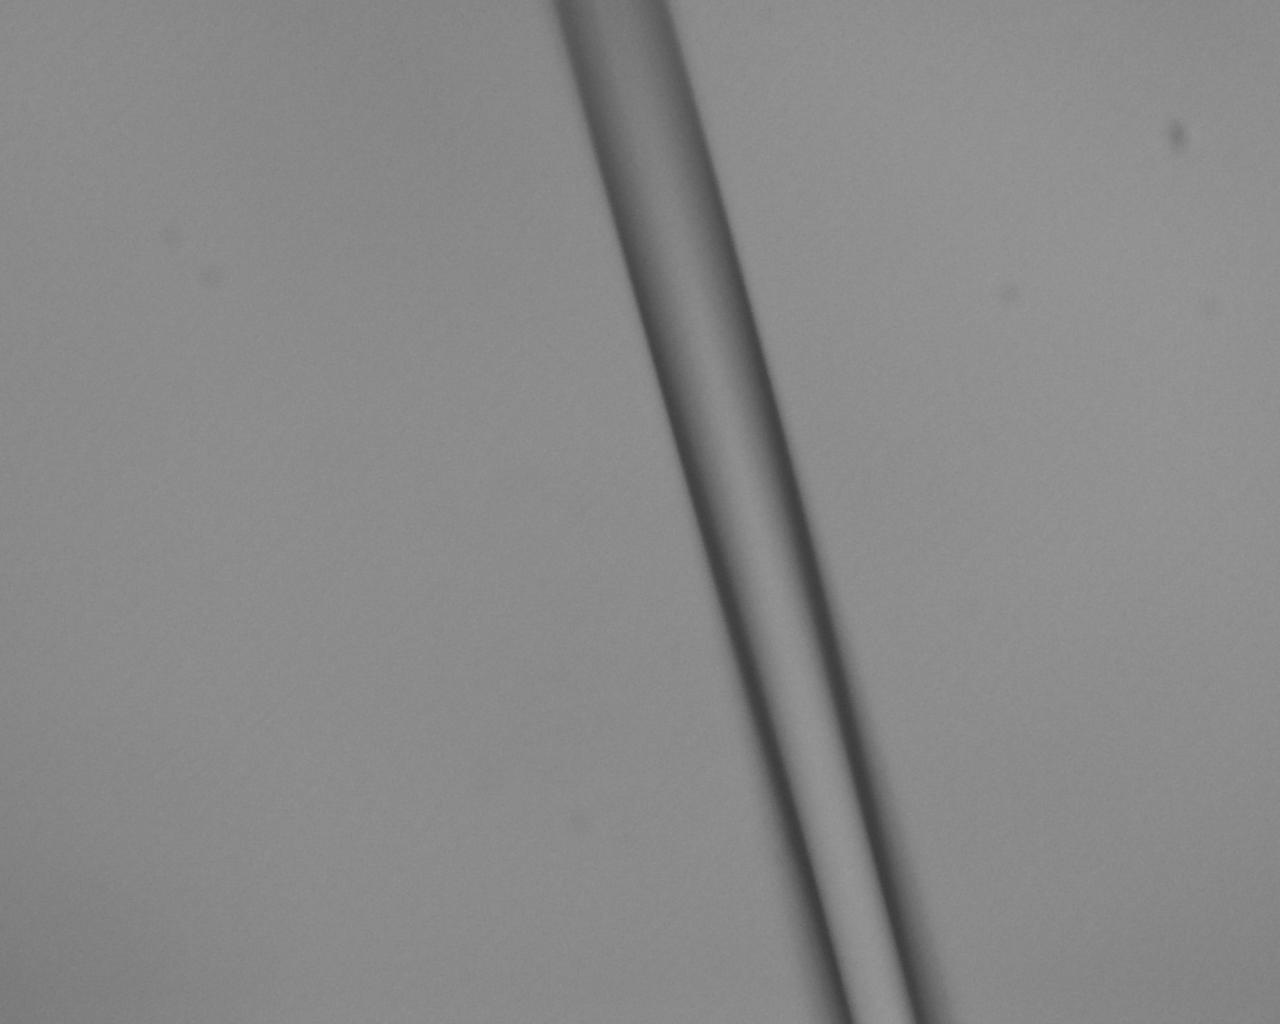fiber: (38, 0, 550, 229), (1095, 552, 1244, 1024)
